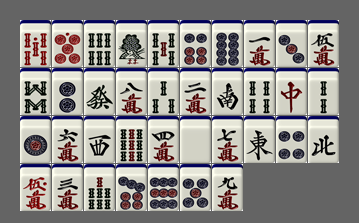0m: (20, 164, 51, 211)
0p: (52, 20, 83, 67)
0s: (20, 20, 51, 67)
1m: (244, 20, 275, 67)
1p: (20, 116, 51, 163)
1s: (116, 20, 147, 67)
1z: (244, 116, 275, 163)
2m: (180, 68, 211, 115)
2p: (52, 68, 83, 115)
2s: (308, 68, 339, 115)
2z: (212, 68, 243, 115)
3m: (52, 164, 83, 211)
3p: (276, 20, 307, 67)
3s: (148, 68, 179, 115)
3z: (84, 116, 115, 163)
4m: (148, 116, 179, 163)
4p: (276, 116, 307, 163)
4s: (244, 68, 275, 115)
4z: (308, 116, 339, 163)
5m: (308, 20, 339, 67)
5p: (180, 164, 211, 211)
5s: (148, 20, 179, 67)
5z: (180, 116, 211, 163)
6m: (52, 116, 83, 163)
6p: (180, 20, 211, 67)
6s: (84, 20, 115, 67)
6z: (84, 68, 115, 115)
7m: (212, 116, 243, 163)
7p: (116, 164, 147, 211)
7s: (84, 164, 115, 211)
7z: (276, 68, 307, 115)
8m: (116, 68, 147, 115)
8p: (212, 20, 243, 67)
8s: (20, 68, 51, 115)
9m: (212, 164, 243, 211)
9p: (148, 164, 179, 211)
9s: (116, 116, 147, 163)
